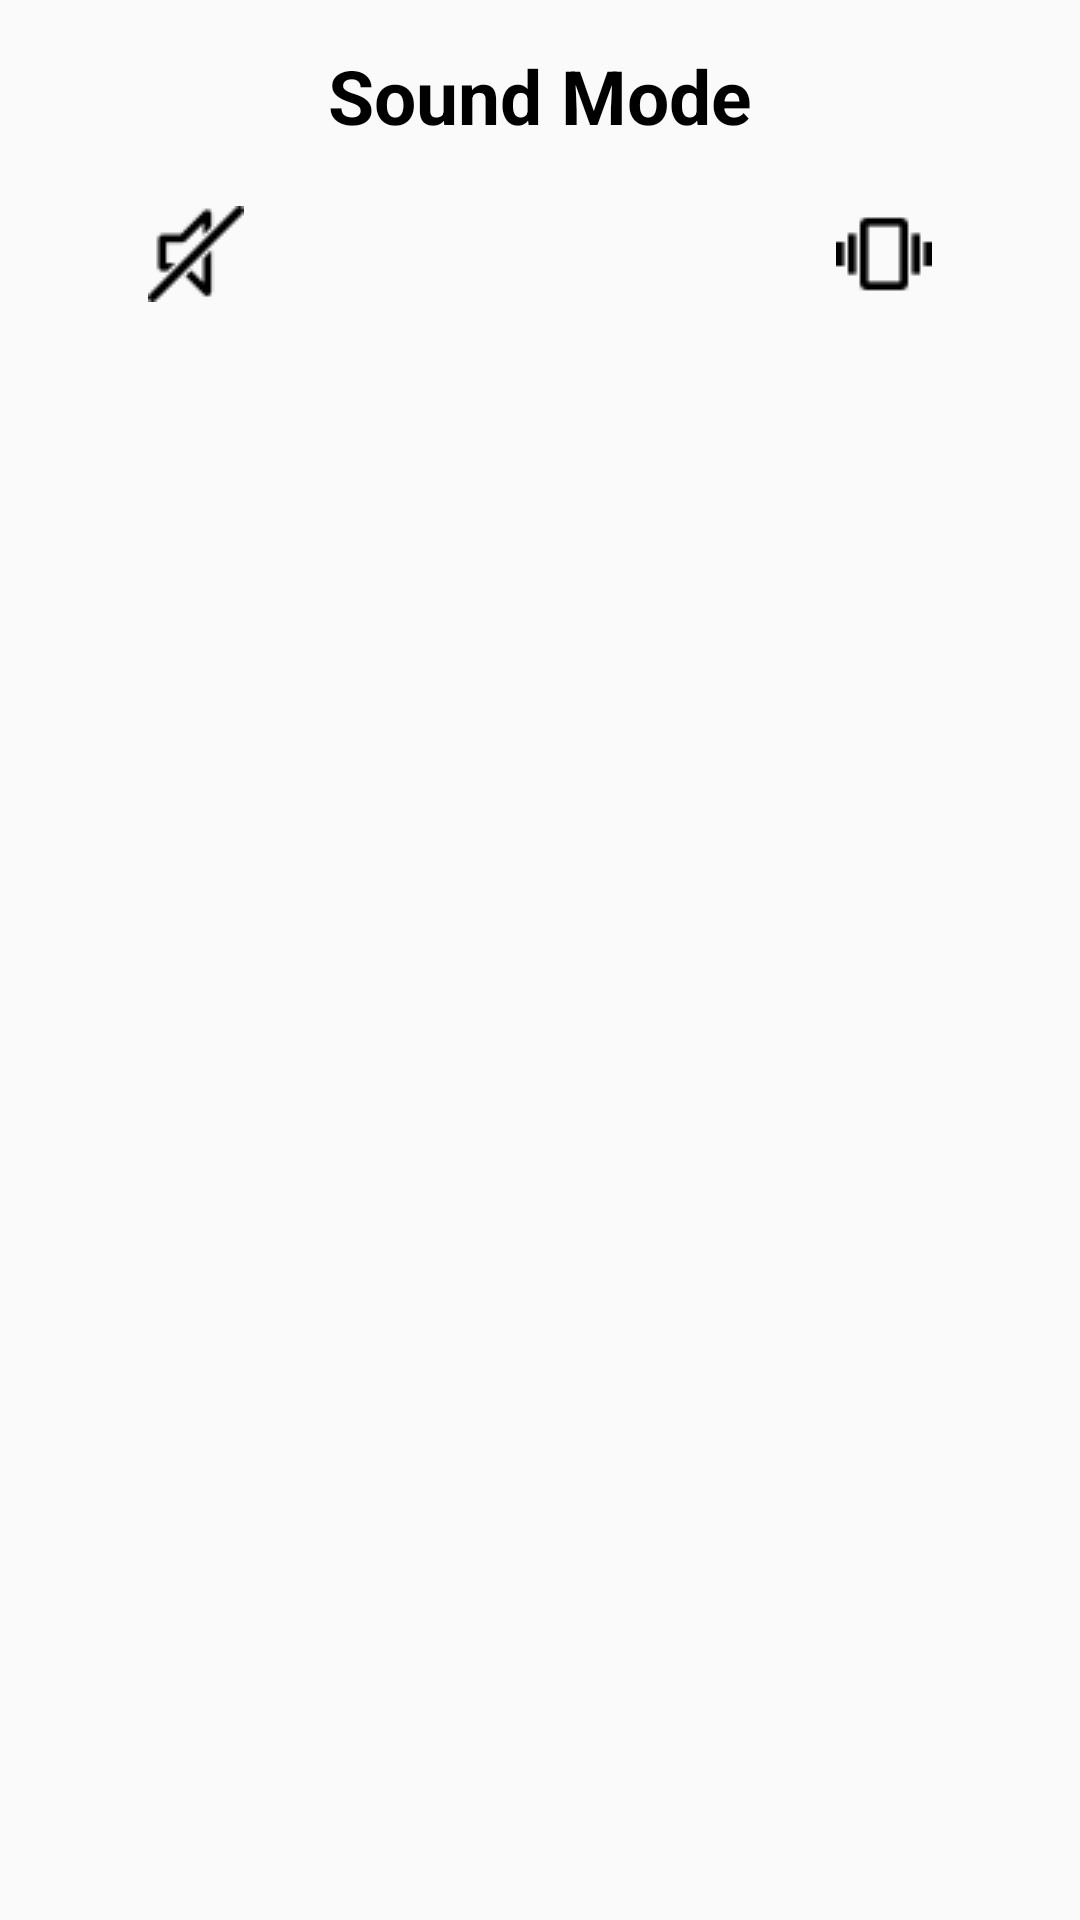

Where to tap for icons on this 1080px x 1920px app screen, as (x,y):
silent: (196,254)
vibrate: (884,254)
